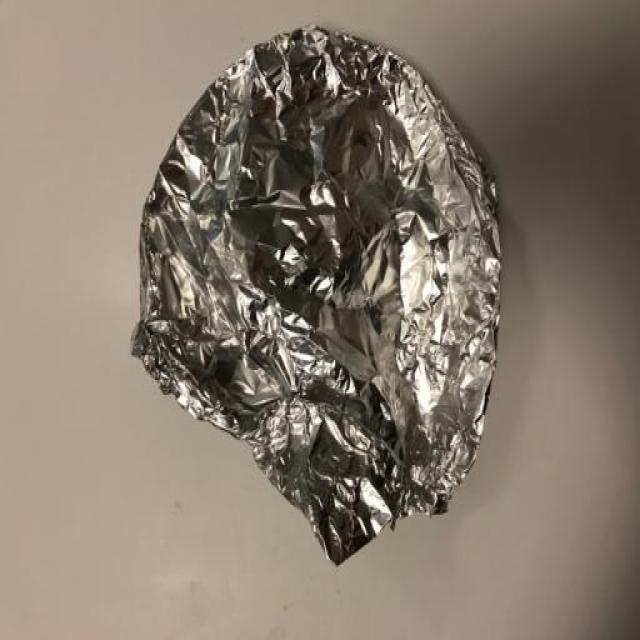others: (128, 5, 517, 609)
